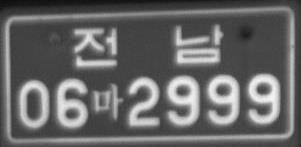0: (18, 77, 50, 128)
2: (129, 75, 159, 126)
6: (56, 77, 89, 129)
9: (246, 72, 282, 124), (166, 74, 201, 126), (206, 74, 240, 124)
마: (93, 82, 123, 119)
전남_D: (74, 23, 224, 67)
